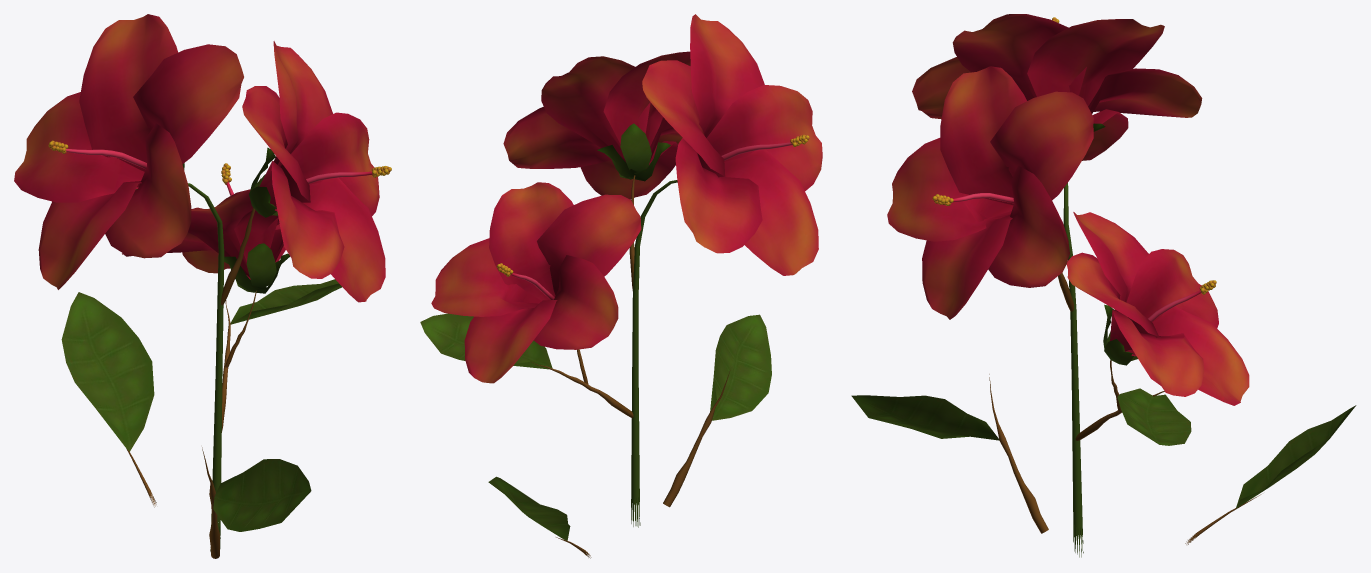
3 renders of one model, left to right at view 1: azimuth 30°, elevation 25°; view 2: azimuth 150°, elevation 25°; view 3: azimuth 270°, elevation 25°, orthographic. The views are drawn at different scales.
Parts seen in each view (by area): view 1: b3cd2a88; view 2: b3cd2a88; view 3: b3cd2a88.
Part boxes in pixels (left/top/right/bottom): b3cd2a88: left=14, top=14, right=391, bottom=558; b3cd2a88: left=420, top=14, right=822, bottom=558; b3cd2a88: left=851, top=14, right=1356, bottom=557.
Bounding box in the file's own units: 0.1555 × 0.2159 × 0.1866.
Materials: 2 (2 with a texture image).
